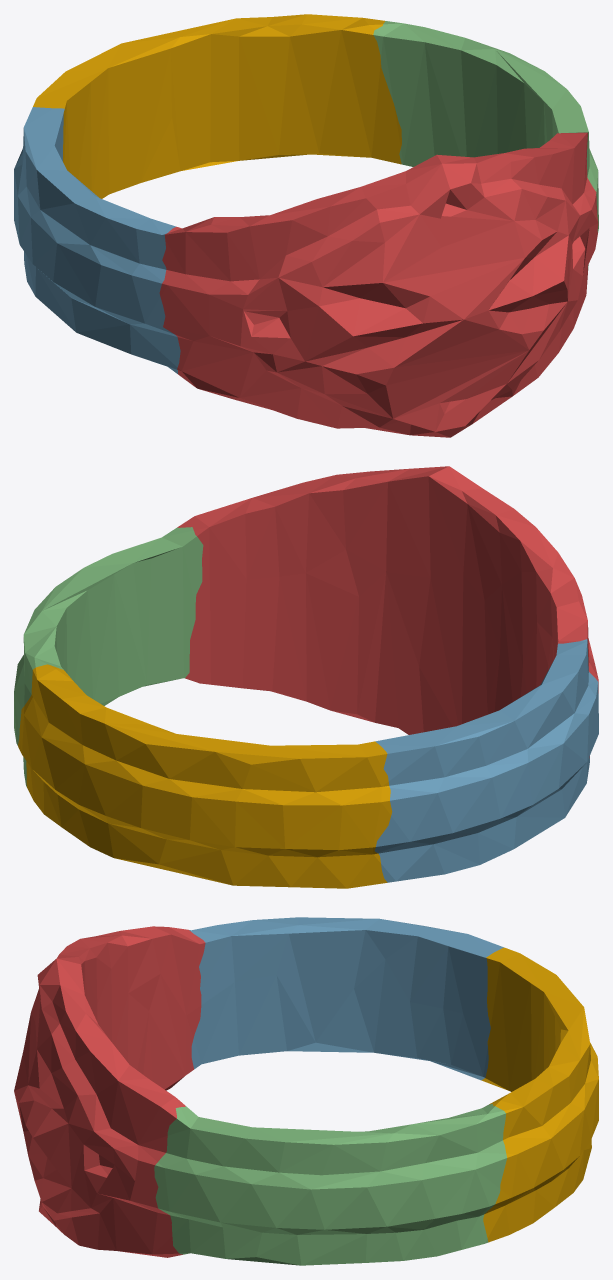
The model's file is mode_3_4pcs.glb.
3 views of the same model, one above another, from view 1: azimuth 30°, elevation 25°; view 2: azimuth 150°, elevation 25°; view 3: azimuth 270°, elevation 25° (orthographic). The views are drawn at different scales.
Parts seen in each view (by area): view 1: piece_1.obj, piece_0.obj, piece_2.obj, piece_3.obj; view 2: piece_1.obj, piece_0.obj, piece_2.obj, piece_3.obj; view 3: piece_1.obj, piece_3.obj, piece_2.obj, piece_0.obj.
Part boxes in pixels (bbox=[...]): piece_1.obj: bbox=[159, 132, 598, 437]; piece_0.obj: bbox=[33, 14, 401, 198]; piece_2.obj: bbox=[14, 107, 180, 373]; piece_3.obj: bbox=[373, 21, 598, 270]; piece_1.obj: bbox=[177, 466, 598, 758]; piece_0.obj: bbox=[18, 664, 392, 888]; piece_2.obj: bbox=[374, 639, 598, 882]; piece_3.obj: bbox=[14, 527, 203, 786]; piece_1.obj: bbox=[14, 926, 205, 1257]; piece_3.obj: bbox=[154, 1104, 506, 1265]; piece_2.obj: bbox=[189, 917, 503, 1080]; piece_0.obj: bbox=[481, 947, 598, 1242].
Bounding box in the file's own units: 0.9505 × 0.4981 × 1.
